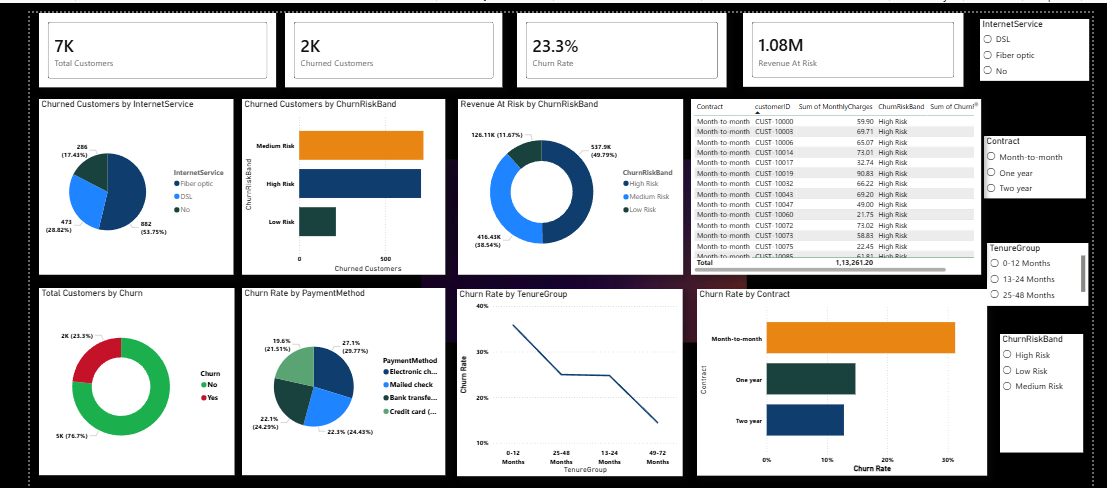

The dashboard page shown, as its layout file describes it:
{"tool":"powerbi","page":{"name":"Executive Summary","canvas":[2041,1060],"ordinal":0},"visuals":[{"type":"cardVisual","fields":{"Data":["Telco_Customer_Churn_PowerBI.Total Customers"]},"box":[17.1,0,456,143.5],"z":0},{"type":"cardVisual","fields":{"Data":["Telco_Customer_Churn_PowerBI.Churned Customers"]},"box":[490.2,0,418.4,143.5],"z":1000},{"type":"cardVisual","fields":{"Data":["Telco_Customer_Churn_PowerBI.Churn Rate"]},"box":[936,0,403.1,143.5],"z":2000},{"type":"cardVisual","fields":{"Data":["Telco_Customer_Churn_PowerBI.Revenue At Risk"]},"box":[1371.5,0,423.6,141.8],"z":3000},{"type":"donutChart","fields":{"Category":["Telco_Customer_Churn_PowerBI.Churn"],"Y":["Telco_Customer_Churn_PowerBI.Total Customers"]},"box":[17.1,529.5,375.7,360.4],"z":4000},{"type":"clusteredBarChart","fields":{"Category":["Telco_Customer_Churn_PowerBI.Contract"],"Y":["Telco_Customer_Churn_PowerBI.Churn Rate"]},"box":[1282.9,531.6,558.5,358.9],"z":5000},{"type":"listSlicer","fields":{"Values":["Telco_Customer_Churn_PowerBI.Contract"]},"box":[1834.3,235.7,196.4,119.6],"z":6000},{"type":"listSlicer","fields":{"Values":["Telco_Customer_Churn_PowerBI.InternetService"]},"box":[1827,11.7,210.1,118.7],"z":7000},{"type":"lineChart","fields":{"Category":["Telco_Customer_Churn_PowerBI.TenureGroup"],"Y":["Telco_Customer_Churn_PowerBI.Churn Rate"]},"box":[821.1,531.2,433.9,359.9],"z":8000},{"type":"pieChart","fields":{"Category":["Telco_Customer_Churn_PowerBI.PaymentMethod"],"Y":["Telco_Customer_Churn_PowerBI.Churn Rate"]},"box":[408.2,529.5,391.1,360.4],"z":9000},{"type":"listSlicer","fields":{"Values":["Telco_Customer_Churn_PowerBI.TenureGroup"]},"box":[1841.2,442.4,194.7,121.3],"z":10000},{"type":"pieChart","fields":{"Category":["Telco_Customer_Churn_PowerBI.InternetService"],"Y":["Telco_Customer_Churn_PowerBI.Churned Customers"]},"box":[17.1,165.7,374,338.2],"z":11000},{"type":"listSlicer","fields":{"Values":["Telco_Customer_Churn_PowerBI.ChurnRiskBand"]},"box":[1865.9,616.8,159.5,227.6],"z":12000},{"type":"clusteredBarChart","fields":{"Category":["Telco_Customer_Churn_PowerBI.ChurnRiskBand"],"Y":["Telco_Customer_Churn_PowerBI.Churned Customers"]},"box":[408.2,165.7,391.1,338.2],"z":13000},{"type":"donutChart","fields":{"Category":["Telco_Customer_Churn_PowerBI.ChurnRiskBand"],"Y":["Telco_Customer_Churn_PowerBI.Revenue At Risk"]},"box":[823.1,165.4,432.7,338.5],"z":14000},{"type":"tableEx","fields":{"Values":["Telco_Customer_Churn_PowerBI.Contract","Telco_Customer_Churn_PowerBI.customerID","Sum(Telco_Customer_Churn_PowerBI.MonthlyCharges)","Telco_Customer_Churn_PowerBI.ChurnRiskBand","Sum(Telco_Customer_Churn_PowerBI.ChurnRiskScore)"]},"box":[1270.7,165.7,558.5,338.2],"z":15000}]}

Visuals, with their boxes on the page's 2041x1060 design canvas (x1, y1, x2, y2). These are canvas units, not pixel positions in the 1107x488 screenshot, which may show the page scaled, cropped or inside an application window:
cardVisual - Telco_Customer_Churn_PowerBI.Total Customers: left=17, top=0, right=473, bottom=144
cardVisual - Telco_Customer_Churn_PowerBI.Churned Customers: left=490, top=0, right=909, bottom=144
cardVisual - Telco_Customer_Churn_PowerBI.Churn Rate: left=936, top=0, right=1339, bottom=144
cardVisual - Telco_Customer_Churn_PowerBI.Revenue At Risk: left=1372, top=0, right=1795, bottom=142
donutChart - Telco_Customer_Churn_PowerBI.Churn x Telco_Customer_Churn_PowerBI.Total Customers: left=17, top=530, right=393, bottom=890
clusteredBarChart - Telco_Customer_Churn_PowerBI.Contract x Telco_Customer_Churn_PowerBI.Churn Rate: left=1283, top=532, right=1841, bottom=890
listSlicer - Telco_Customer_Churn_PowerBI.Contract: left=1834, top=236, right=2031, bottom=355
listSlicer - Telco_Customer_Churn_PowerBI.InternetService: left=1827, top=12, right=2037, bottom=130
lineChart - Telco_Customer_Churn_PowerBI.TenureGroup x Telco_Customer_Churn_PowerBI.Churn Rate: left=821, top=531, right=1255, bottom=891
pieChart - Telco_Customer_Churn_PowerBI.PaymentMethod x Telco_Customer_Churn_PowerBI.Churn Rate: left=408, top=530, right=799, bottom=890
listSlicer - Telco_Customer_Churn_PowerBI.TenureGroup: left=1841, top=442, right=2036, bottom=564
pieChart - Telco_Customer_Churn_PowerBI.InternetService x Telco_Customer_Churn_PowerBI.Churned Customers: left=17, top=166, right=391, bottom=504
listSlicer - Telco_Customer_Churn_PowerBI.ChurnRiskBand: left=1866, top=617, right=2025, bottom=844
clusteredBarChart - Telco_Customer_Churn_PowerBI.ChurnRiskBand x Telco_Customer_Churn_PowerBI.Churned Customers: left=408, top=166, right=799, bottom=504
donutChart - Telco_Customer_Churn_PowerBI.ChurnRiskBand x Telco_Customer_Churn_PowerBI.Revenue At Risk: left=823, top=165, right=1256, bottom=504
tableEx - Telco_Customer_Churn_PowerBI.Contract x Telco_Customer_Churn_PowerBI.customerID: left=1271, top=166, right=1829, bottom=504
